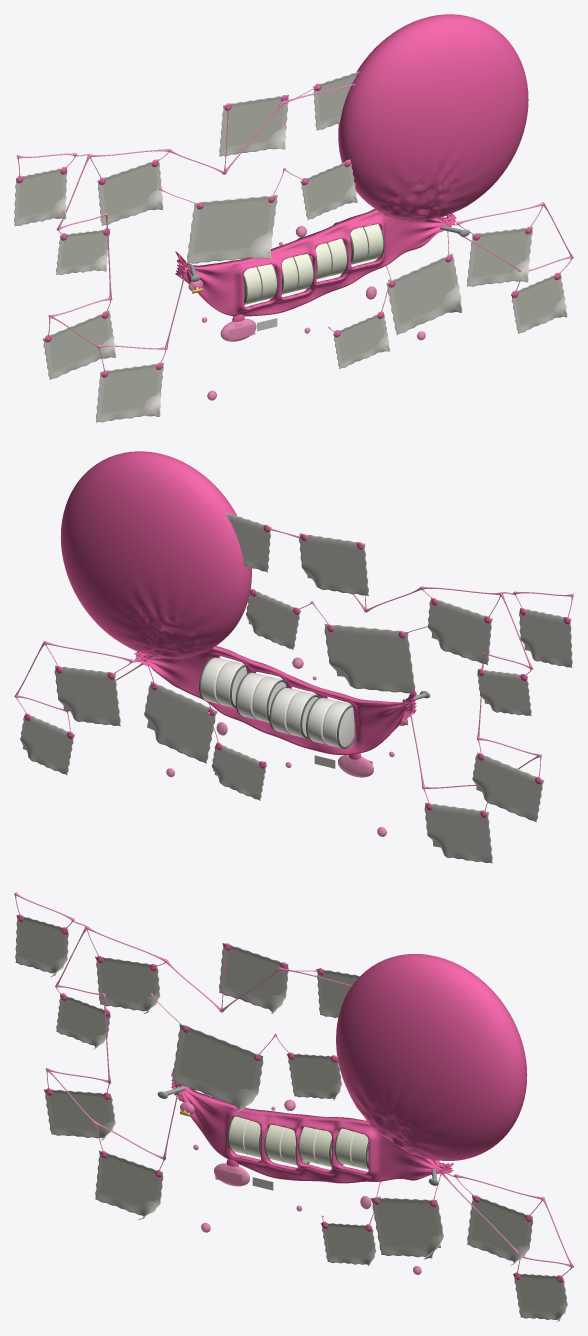
3 renders of one model, top to bottom at view 1: azimuth 30°, elevation 25°; view 2: azimuth 150°, elevation 25°; view 3: azimuth 330°, elevation 25°, orthographic.
Visible parts, largest first — view 1: gum_connected_membrane, screen_severance_tracker, screen_game_of_thrones_s4, screen_severance_s2, paper_severance_tracker, screen_breaking_bad_final, screen_game_of_thrones_s3_redesign, screen_breaking_bad_desert_parallax, screen_sherlock_final, paper_game_of_thrones_s4, screen_house_of_cards_s2, paper_severance_s2 (+19 smaller); view 2: gum_connected_membrane, paper_severance_tracker, paper_game_of_thrones_s4, paper_severance_s2, paper_breaking_bad_final, paper_game_of_thrones_s3_redesign, paper_breaking_bad_desert_parallax, paper_sherlock_final, paper_house_of_cards_s2, paper_game_of_thrones_s3_classic, paper_dexter_s8_final, paper_archer_s5_final (+12 smaller); view 3: gum_connected_membrane, screen_severance_tracker, screen_game_of_thrones_s4, screen_severance_s2, screen_breaking_bad_final, screen_game_of_thrones_s3_redesign, paper_severance_tracker, screen_breaking_bad_desert_parallax, screen_sherlock_final, screen_house_of_cards_s2, paper_game_of_thrones_s4, screen_game_of_thrones_s3_classic (+17 smaller).
Part boxes in pixels (x1=…): gum_connected_membrane: x1=175, y1=14, x2=528, y2=316; screen_severance_tracker: x1=194, y1=201, x2=270, y2=253; screen_game_of_thrones_s4: x1=393, y1=261, x2=454, y2=324; screen_severance_s2: x1=225, y1=100, x2=283, y2=147; paper_severance_tracker: x1=186, y1=195, x2=277, y2=263; screen_breaking_bad_final: x1=101, y1=368, x2=158, y2=413; screen_game_of_thrones_s3_redesign: x1=472, y1=232, x2=528, y2=277; screen_breaking_bad_desert_parallax: x1=49, y1=317, x2=109, y2=370; screen_sherlock_final: x1=103, y1=165, x2=157, y2=215; paper_game_of_thrones_s4: x1=386, y1=253, x2=462, y2=334; screen_house_of_cards_s2: x1=18, y1=172, x2=63, y2=217; paper_severance_s2: x1=219, y1=94, x2=288, y2=156; gum_connected_membrane: x1=60, y1=451, x2=416, y2=754; paper_severance_tracker: x1=324, y1=624, x2=415, y2=693; paper_game_of_thrones_s4: x1=144, y1=681, x2=217, y2=763; paper_severance_s2: x1=299, y1=533, x2=368, y2=596; paper_breaking_bad_final: x1=424, y1=802, x2=492, y2=863; paper_game_of_thrones_s3_redesign: x1=54, y1=665, x2=120, y2=726; paper_breaking_bad_desert_parallax: x1=472, y1=752, x2=544, y2=822; paper_sherlock_final: x1=427, y1=597, x2=492, y2=665; paper_house_of_cards_s2: x1=519, y1=608, x2=572, y2=667; paper_game_of_thrones_s3_classic: x1=20, y1=713, x2=74, y2=775; paper_dexter_s8_final: x1=246, y1=588, x2=301, y2=649; paper_archer_s5_final: x1=211, y1=742, x2=267, y2=800; gum_connected_membrane: x1=171, y1=954, x2=527, y2=1183; screen_severance_tracker: x1=179, y1=1031, x2=256, y2=1095; screen_game_of_thrones_s4: x1=377, y1=1202, x2=440, y2=1247; screen_severance_s2: x1=224, y1=949, x2=283, y2=1000; screen_breaking_bad_final: x1=100, y1=1157, x2=157, y2=1211; screen_game_of_thrones_s3_redesign: x1=472, y1=1201, x2=527, y2=1252; paper_severance_tracker: x1=172, y1=1023, x2=263, y2=1112; screen_breaking_bad_desert_parallax: x1=50, y1=1093, x2=110, y2=1130; screen_sherlock_final: x1=100, y1=961, x2=156, y2=1004; screen_house_of_cards_s2: x1=19, y1=920, x2=64, y2=965; paper_game_of_thrones_s4: x1=370, y1=1197, x2=443, y2=1259; screen_game_of_thrones_s3_classic: x1=518, y1=1277, x2=563, y2=1312.
Size of the model in its own units: 28.97 by 16.8 by 4.1.
9 materials, 1 textured.
